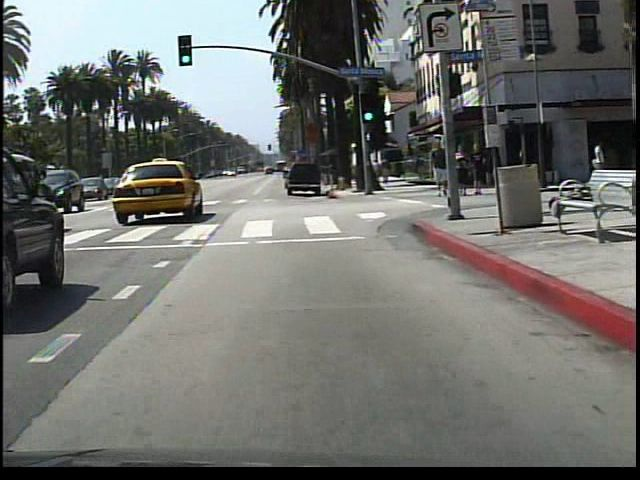person: (428, 141, 447, 203), (588, 136, 605, 186)
